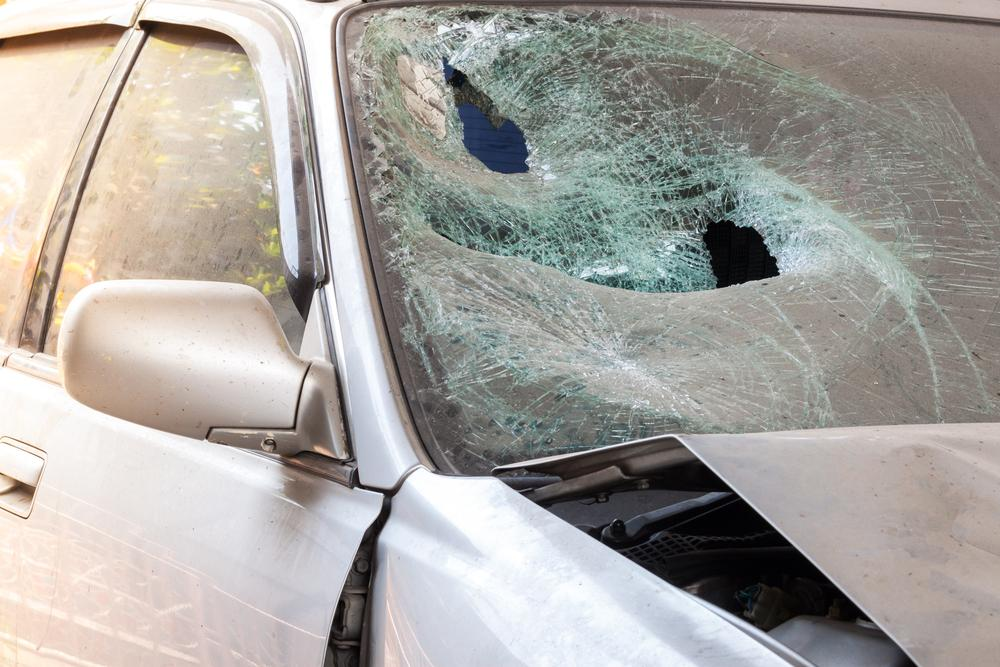dent: (884, 442, 1000, 603)
glass shatter: (346, 2, 1000, 475)
scratch: (0, 507, 318, 667)
